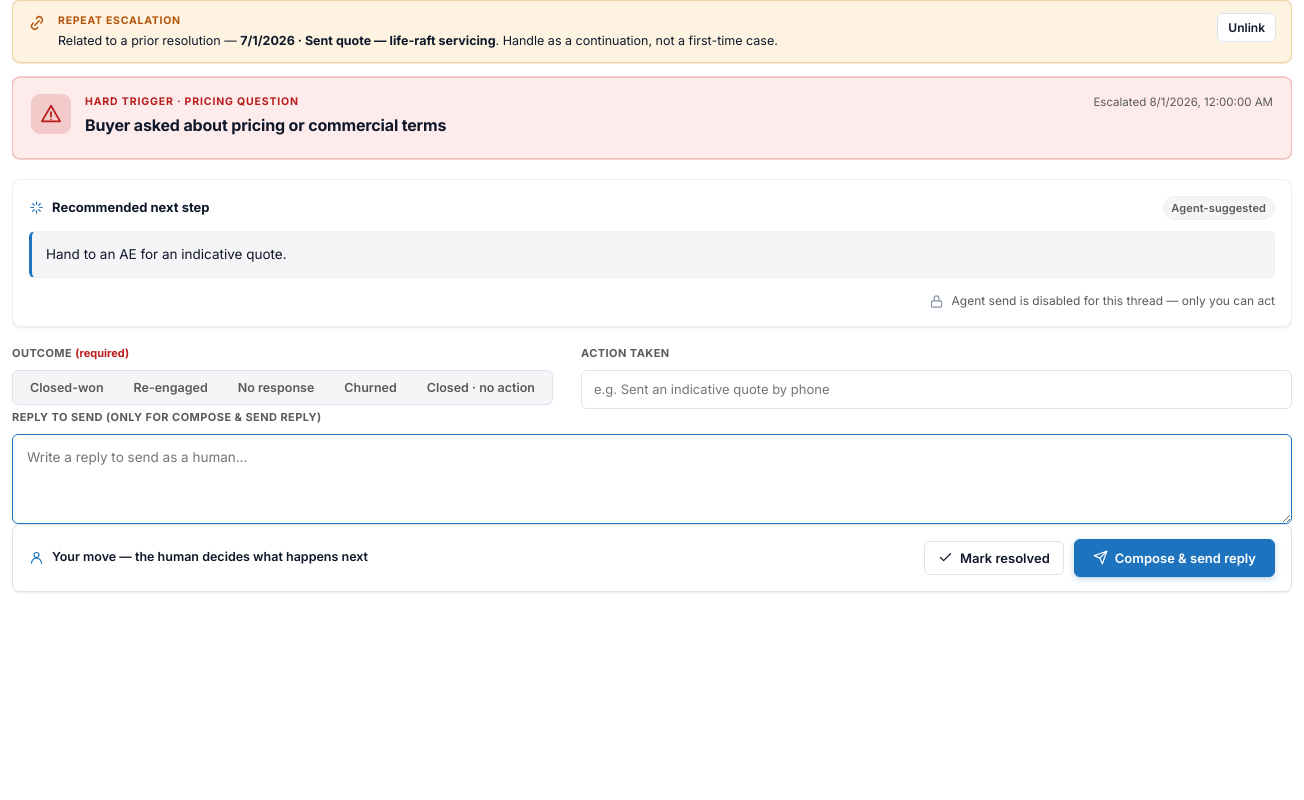
EscalationPanel › shows the already-linked state and allows unlinking
Expected: the text "Repeat escalation" is shown, [58,14,181,27]
Click the button "Unlink" at (1247,28), box [1217,13,1276,42]
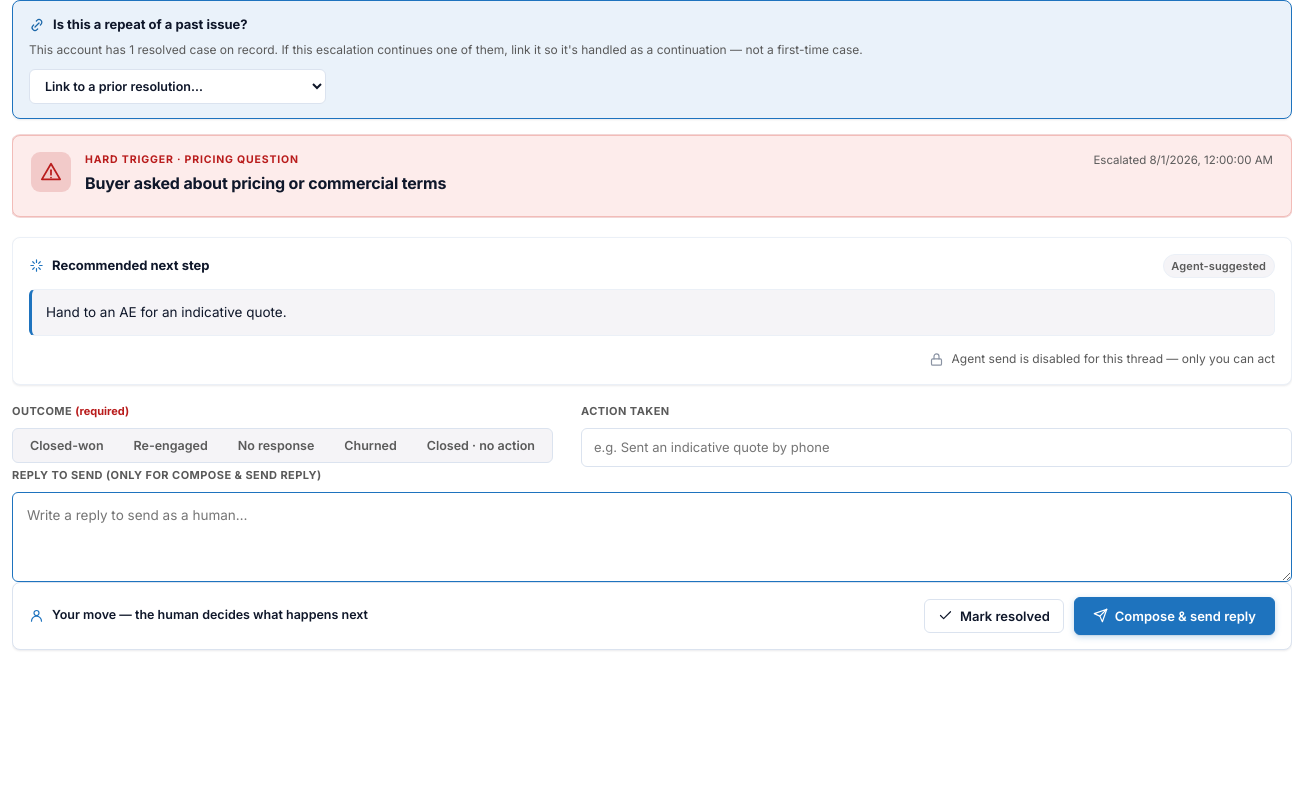
Result: the text "Repeat escalation" is gone
